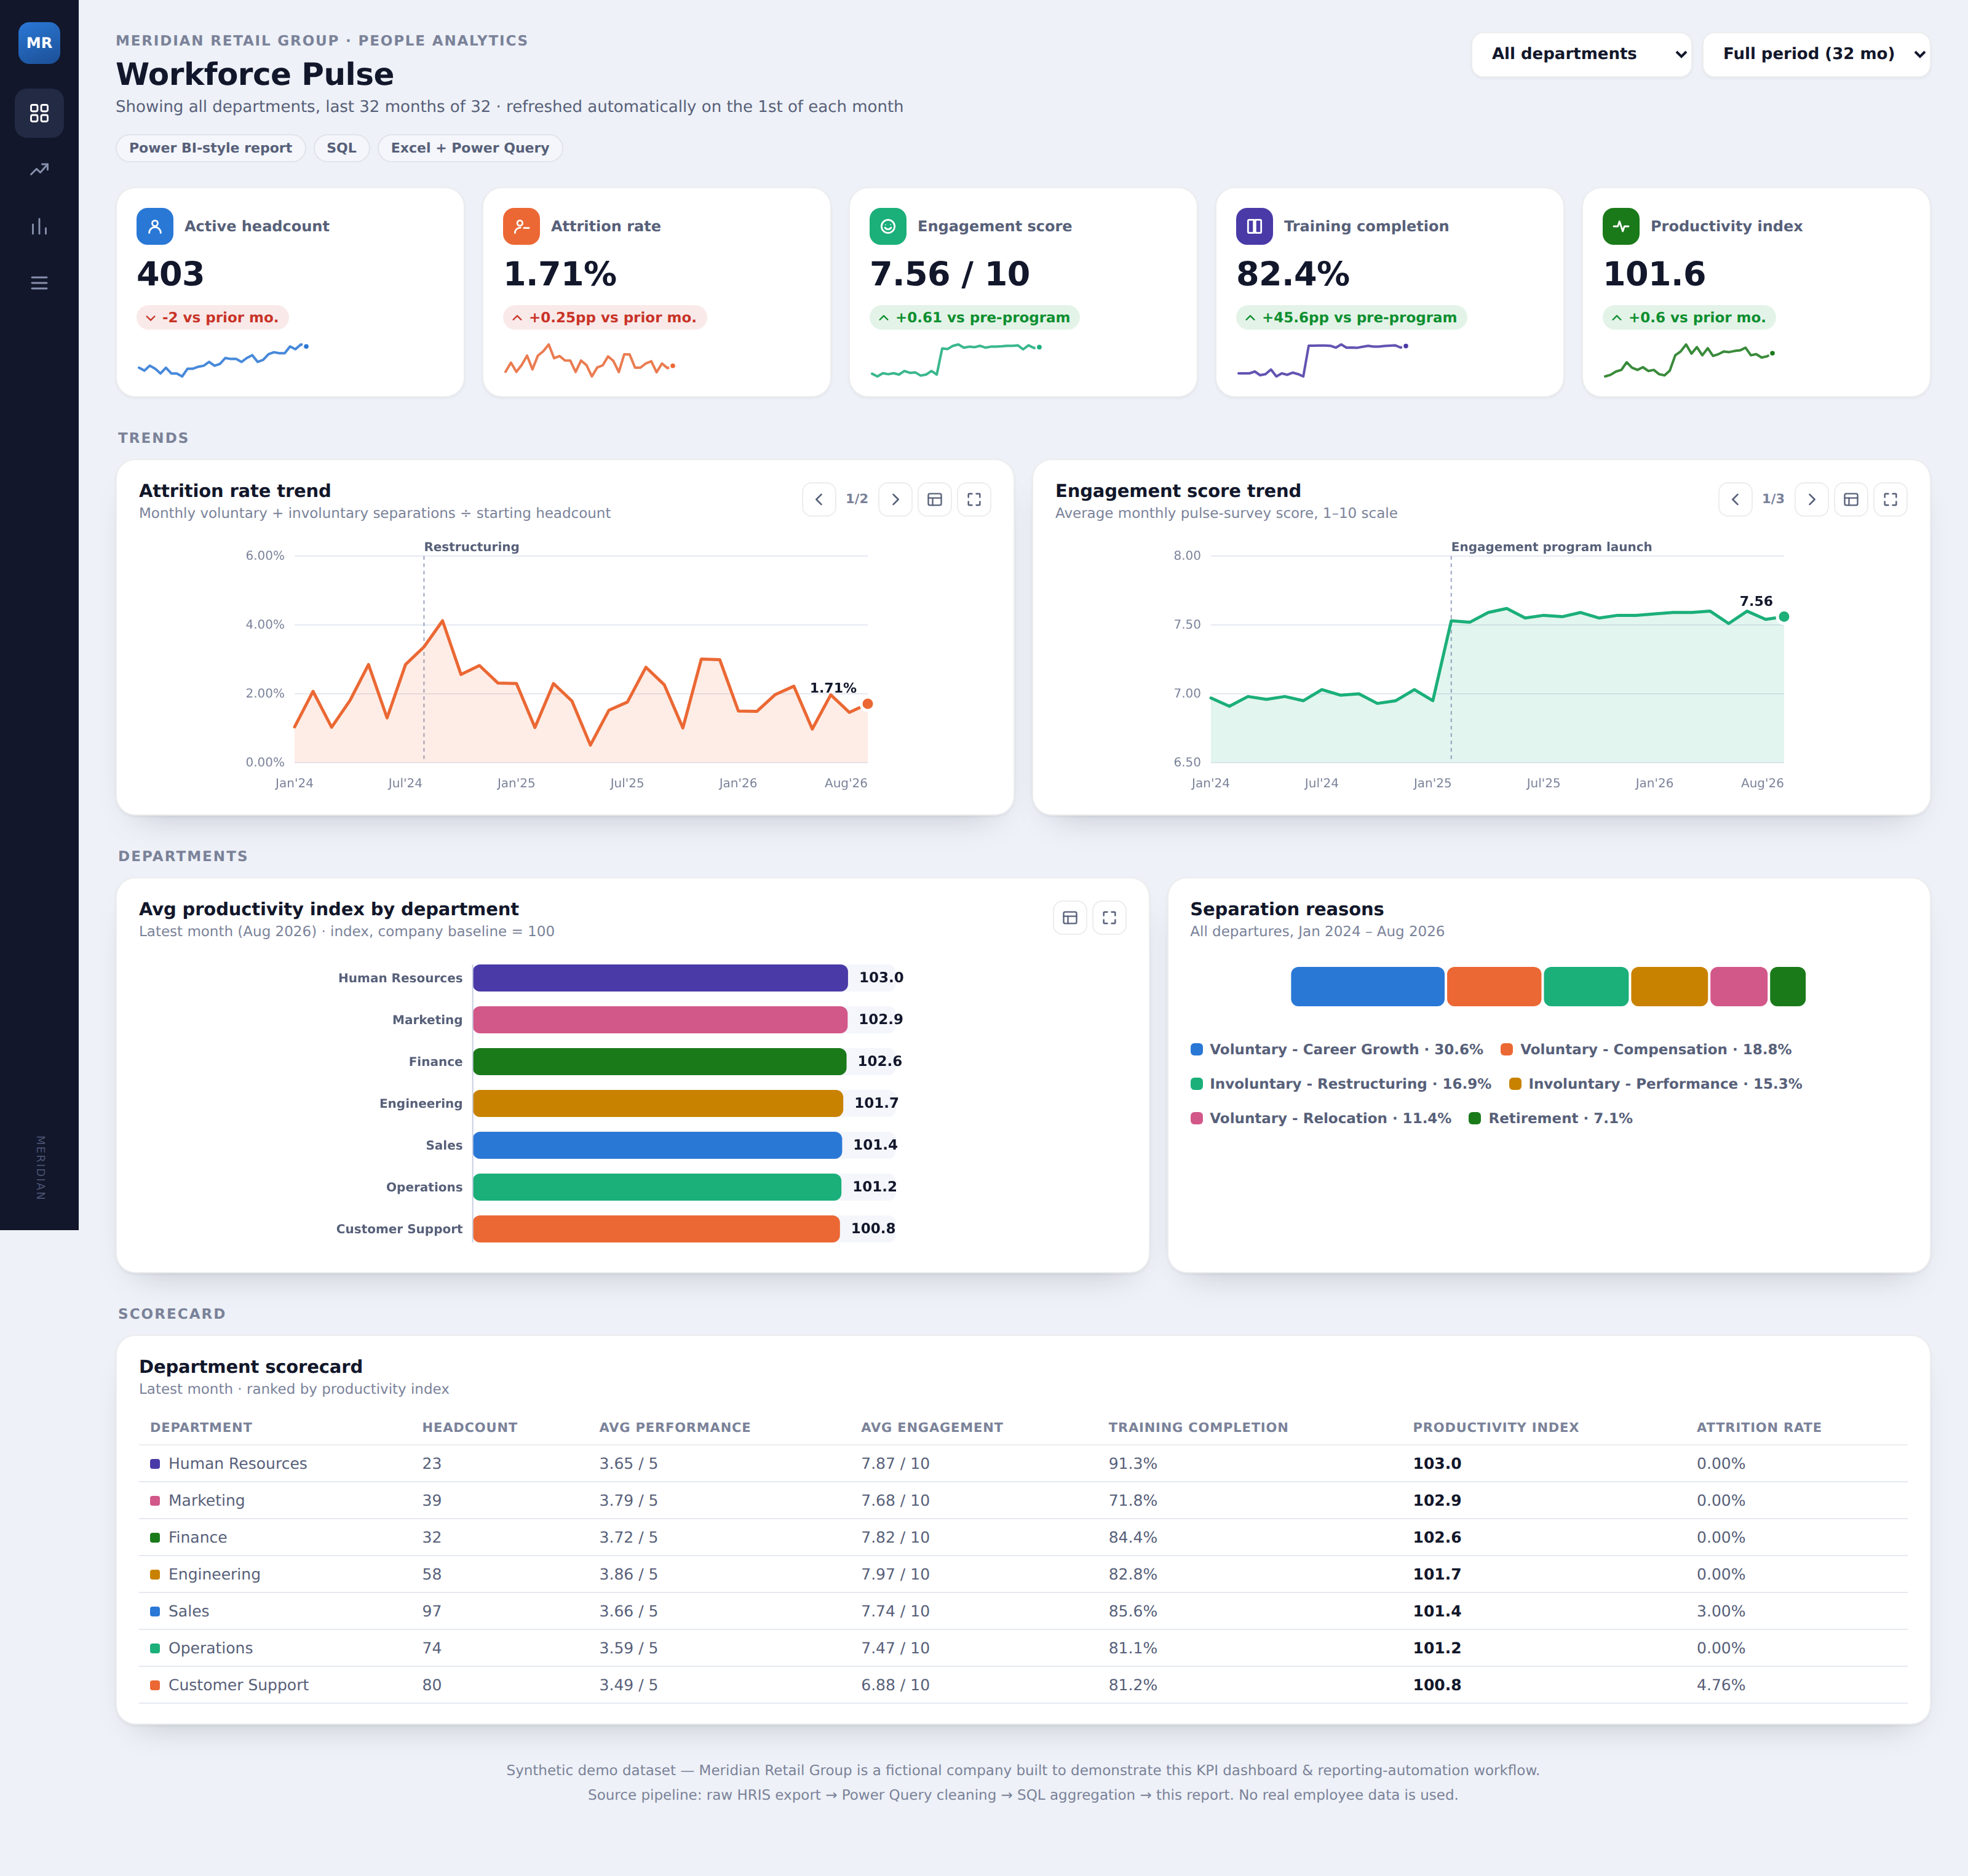

What the dashboard file says about the page in this screenshot:
{"tool":"powerbi","page":{"name":"Overview","canvas":[1920,1080],"ordinal":0},"visuals":[{"type":"textbox","box":[76.2,73.1,817,39.4],"z":0},{"type":"textbox","box":[76.2,112,817,36.5],"z":1000},{"type":"slicer","fields":{"Values":["dim_department.Department"]},"box":[1671.1,73.1,186.7,75.9],"z":2000},{"type":"cardVisual","title":"Active Headcount","fields":{"Data":["_Measures.Current Headcount"]},"box":[76.2,199.2,291,150.9],"z":3000},{"type":"cardVisual","title":"Attrition Rate","fields":{"Data":["_Measures.Attrition Rate"]},"box":[452.8,202.3,291,149.4],"z":4000},{"type":"cardVisual","title":"Avg Engagement","fields":{"Data":["_Measures.Avg Engagement Score"]},"box":[827.7,202.3,291,149.4],"z":5000},{"type":"cardVisual","title":"Training Completion","fields":{"Data":["_Measures.Training Completion Rate"]},"box":[1194.9,202.3,291,149.4],"z":6000},{"type":"cardVisual","title":"Productivity Index","fields":{"Data":["_Measures.Avg Productivity Index"]},"box":[1565.3,199.2,291,150.9],"z":7000},{"type":"lineChart","title":"Attrition rate trend","fields":{"Category":["dim_date.MonthYearLabel"],"Y":["_Measures.Attrition Rate"]},"box":[76.2,429.4,883.8,406.1],"z":8000},{"type":"lineChart","title":"Engagement score trend","fields":{"Category":["dim_date.MonthYearLabel"],"Y":["_Measures.Avg Engagement Score"]},"box":[974,429.4,883.8,406.1],"z":9000}]}

Visuals, with their boxes on the page's 1920x1080 design canvas (x1, y1, x2, y2). These are canvas units, not pixel positions in the 1968x1876 screenshot, which may show the page scaled, cropped or inside an application window:
textbox: pyautogui.locateOnScreen(76, 73, 893, 112)
textbox: pyautogui.locateOnScreen(76, 112, 893, 148)
slicer - dim_department.Department: pyautogui.locateOnScreen(1671, 73, 1858, 149)
"Active Headcount" cardVisual: pyautogui.locateOnScreen(76, 199, 367, 350)
"Attrition Rate" cardVisual: pyautogui.locateOnScreen(453, 202, 744, 352)
"Avg Engagement" cardVisual: pyautogui.locateOnScreen(828, 202, 1119, 352)
"Training Completion" cardVisual: pyautogui.locateOnScreen(1195, 202, 1486, 352)
"Productivity Index" cardVisual: pyautogui.locateOnScreen(1565, 199, 1856, 350)
"Attrition rate trend" lineChart: pyautogui.locateOnScreen(76, 429, 960, 836)
"Engagement score trend" lineChart: pyautogui.locateOnScreen(974, 429, 1858, 836)
